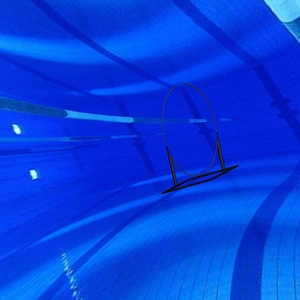circle: (161, 81, 240, 193)
